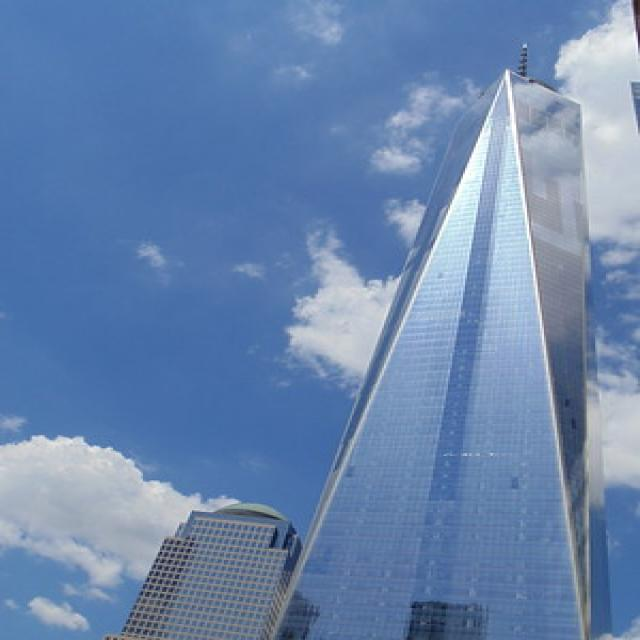Normal_building: (282, 62, 604, 640)
